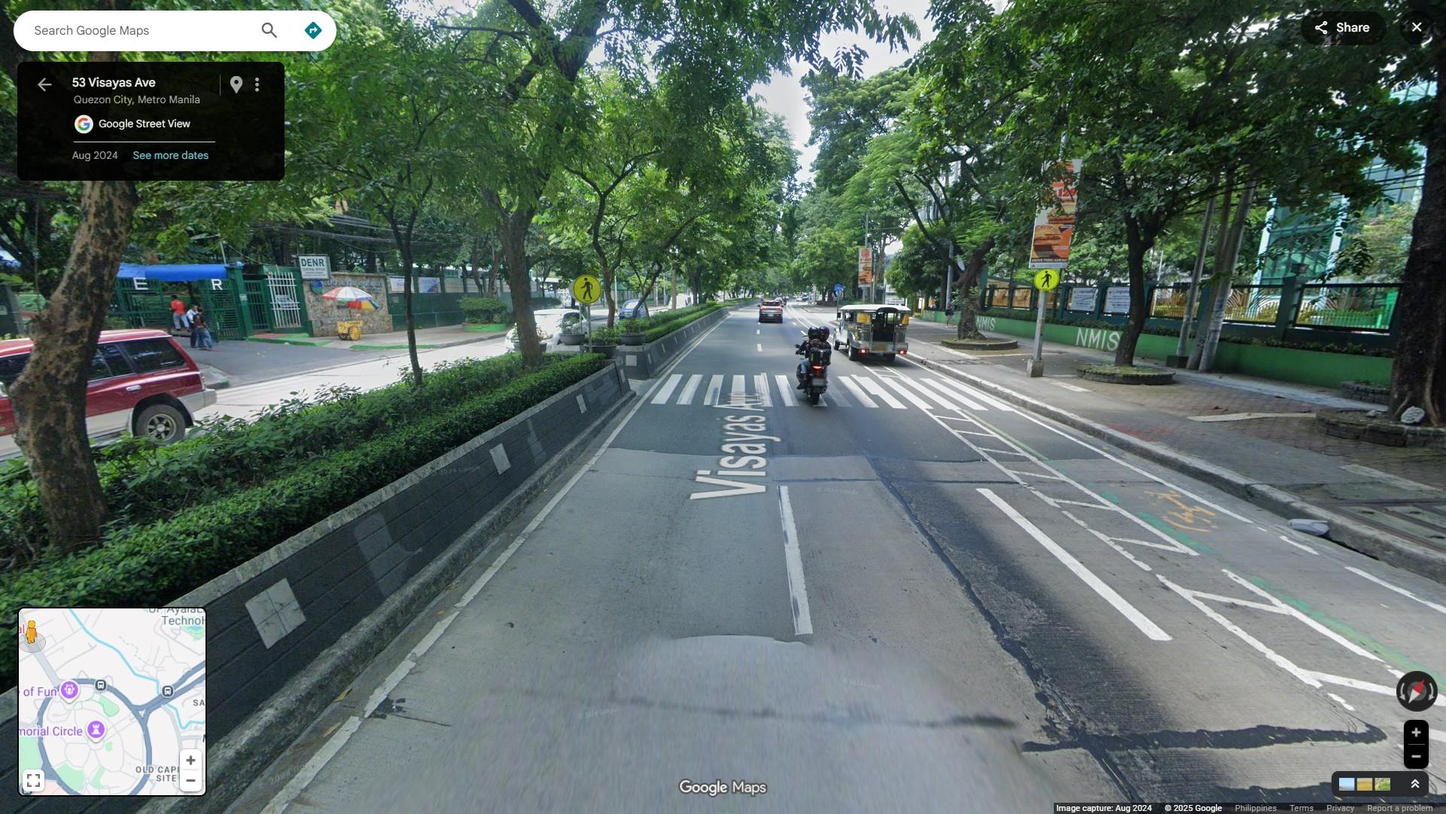pedestrian: (192, 305, 218, 352), (167, 293, 191, 332), (185, 303, 204, 349), (945, 300, 957, 329)
